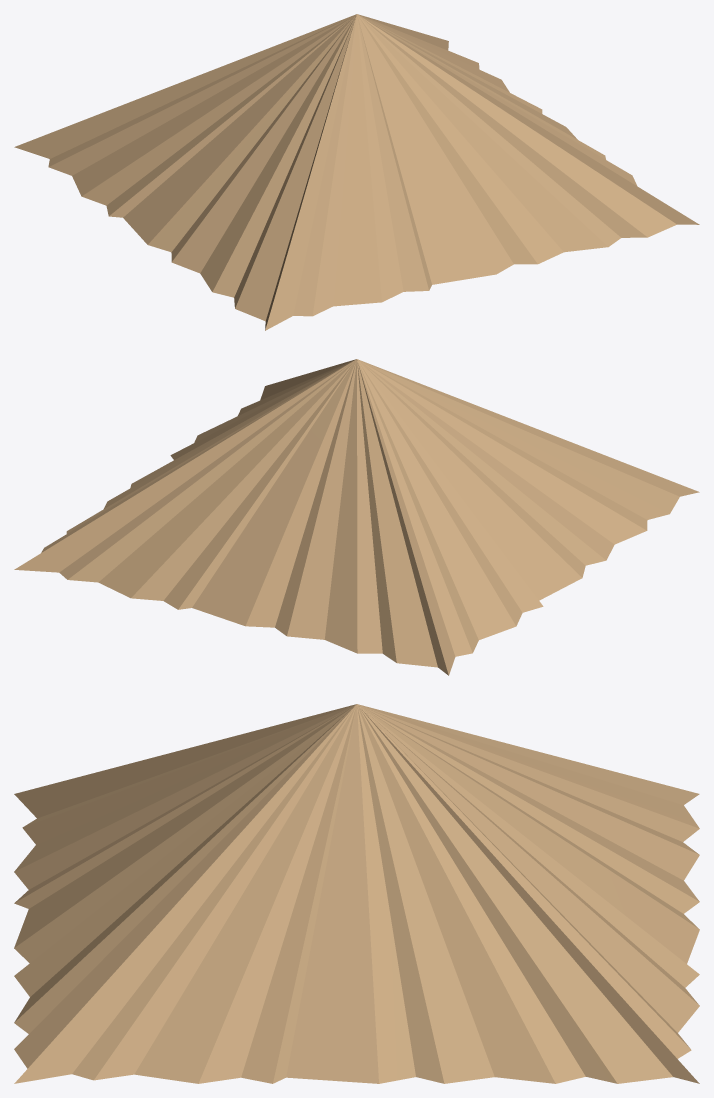
The model's file is Building_Modular_Jetty_Walkway_Timber_Hut_Roof_01.fbx.
3 views of the same model, one above another, from view 1: azimuth 30°, elevation 25°; view 2: azimuth 150°, elevation 25°; view 3: azimuth 270°, elevation 25° (orthographic). The views are drawn at different scales.
Visible parts, largest first — view 1: Building_Modular_Jetty_Walkway_Timber_Hut_Roof_01; view 2: Building_Modular_Jetty_Walkway_Timber_Hut_Roof_01; view 3: Building_Modular_Jetty_Walkway_Timber_Hut_Roof_01.
Boxes of the visible parts, <box> form: Building_Modular_Jetty_Walkway_Timber_Hut_Roof_01: <box>14,14,699,330</box>; Building_Modular_Jetty_Walkway_Timber_Hut_Roof_01: <box>14,359,699,675</box>; Building_Modular_Jetty_Walkway_Timber_Hut_Roof_01: <box>14,704,699,1083</box>.
Size of the model in its own units: 6047 by 2285 by 6047.
